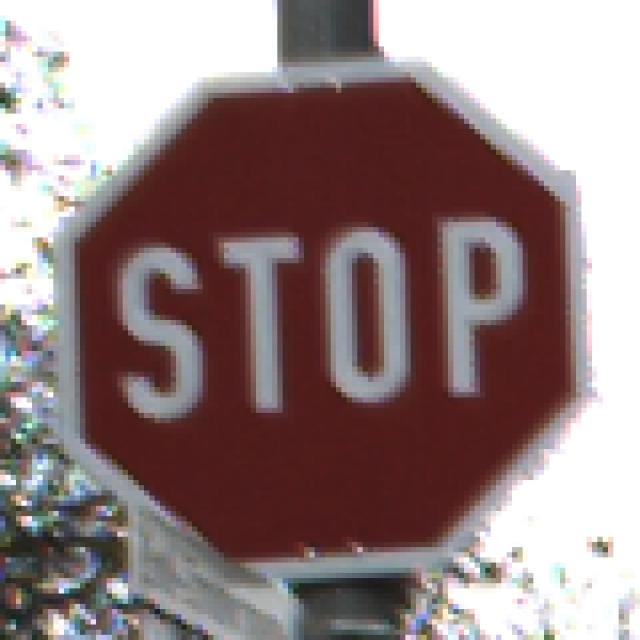STOP: (54, 58, 588, 589)
